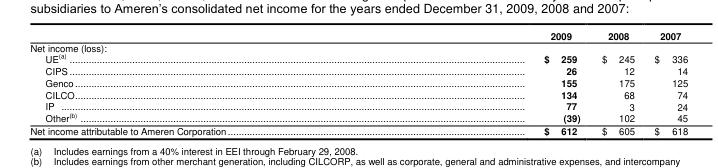table: (29, 28, 687, 137)
table column: (29, 28, 384, 137), (384, 28, 590, 137), (590, 28, 643, 137), (643, 28, 687, 137)
table column header: (29, 28, 687, 41)
table projected row header: (29, 41, 687, 52)
table row: (29, 28, 687, 41), (29, 111, 687, 124), (29, 124, 687, 137), (29, 52, 687, 64), (29, 64, 687, 76), (29, 76, 687, 88), (29, 99, 687, 111), (29, 41, 687, 52), (29, 88, 687, 99)
